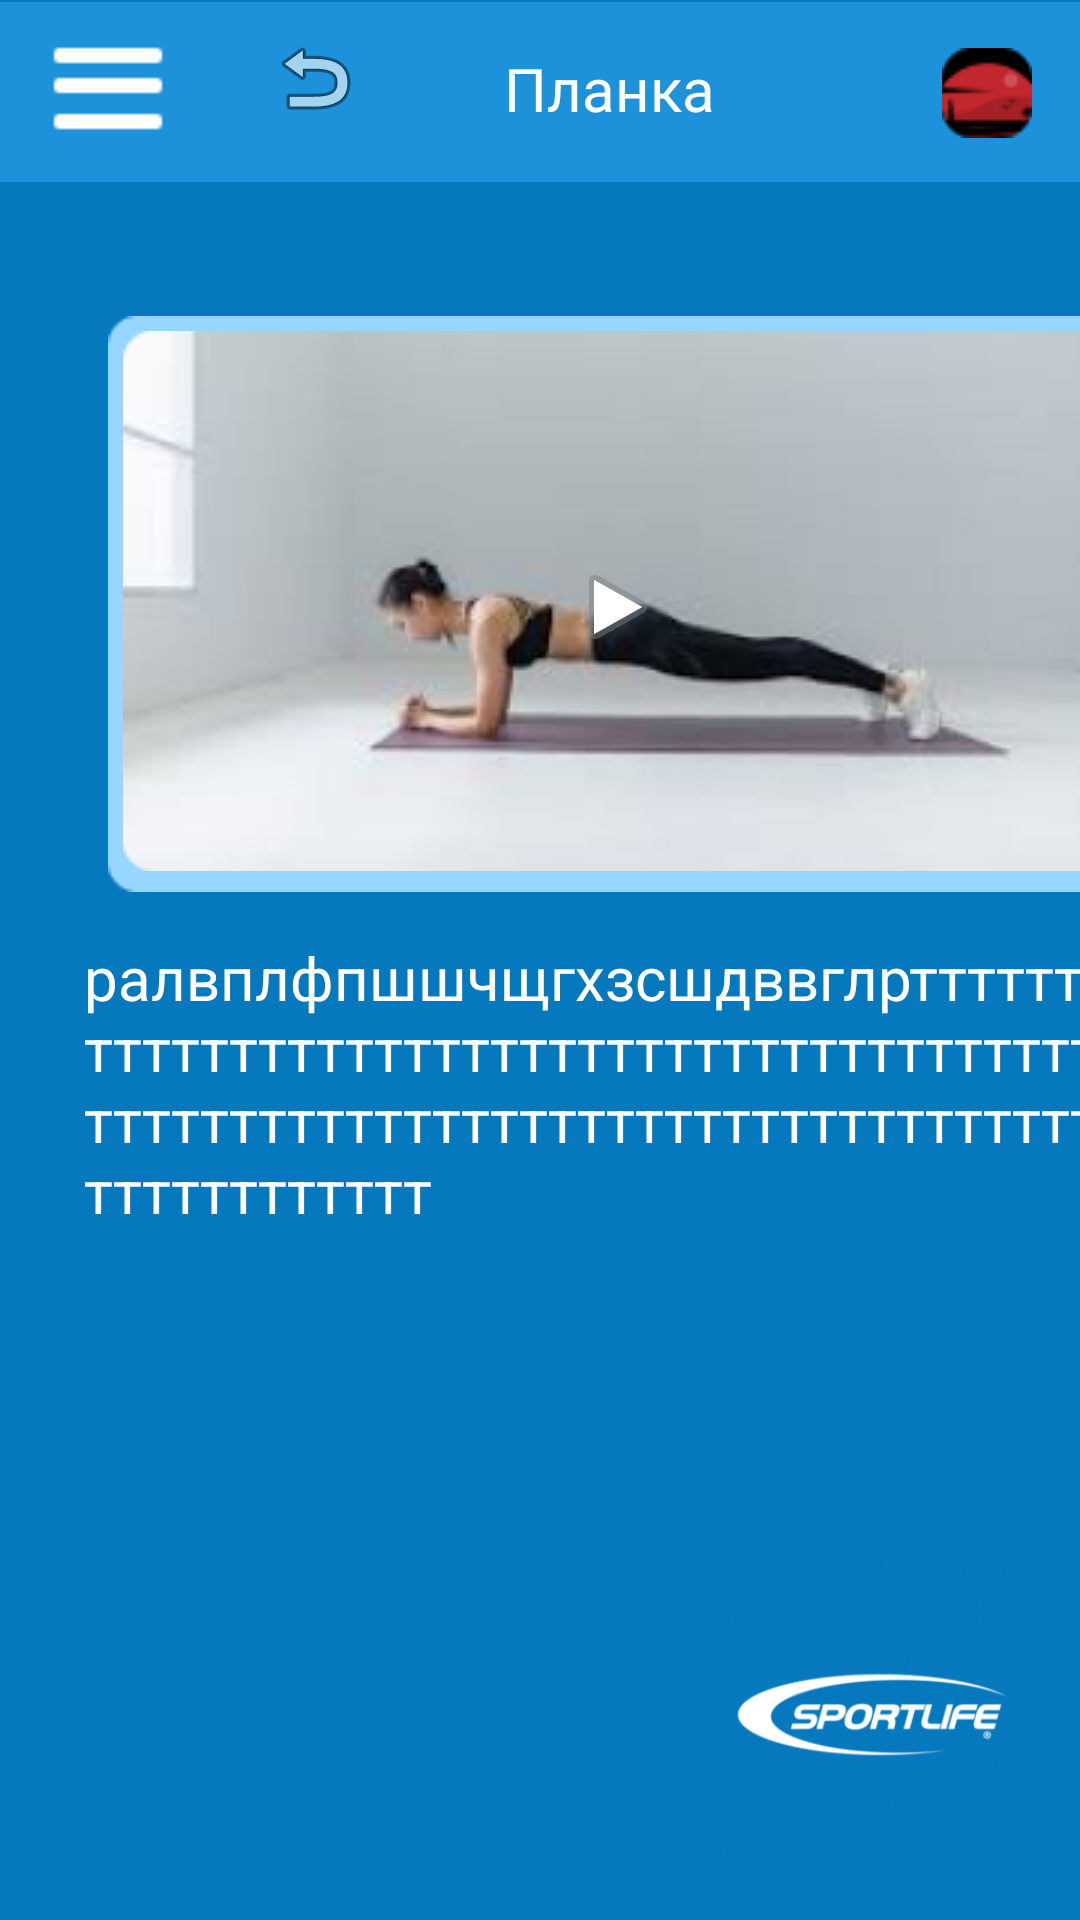

Where to tap for icons on this 1080 x 1920 app screen, as (x=x, y=y):
play: (x=618, y=607)
revert: (x=316, y=78)
